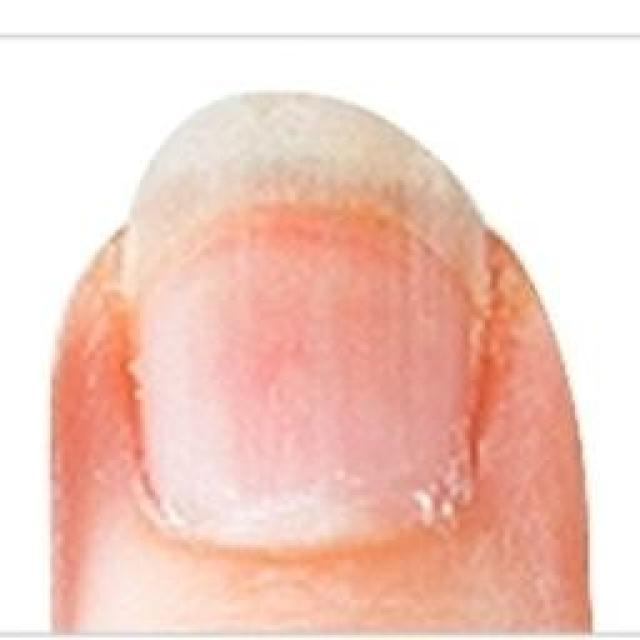Nail: (128, 94, 485, 556)
